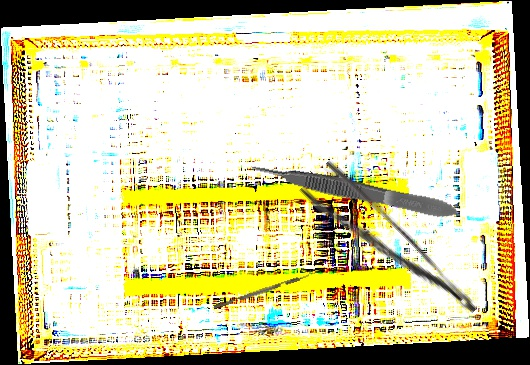Chopper: (211, 268, 314, 310)
Dressing Forceps: (298, 157, 481, 339)
Tissue Forceps: (248, 155, 459, 224)
